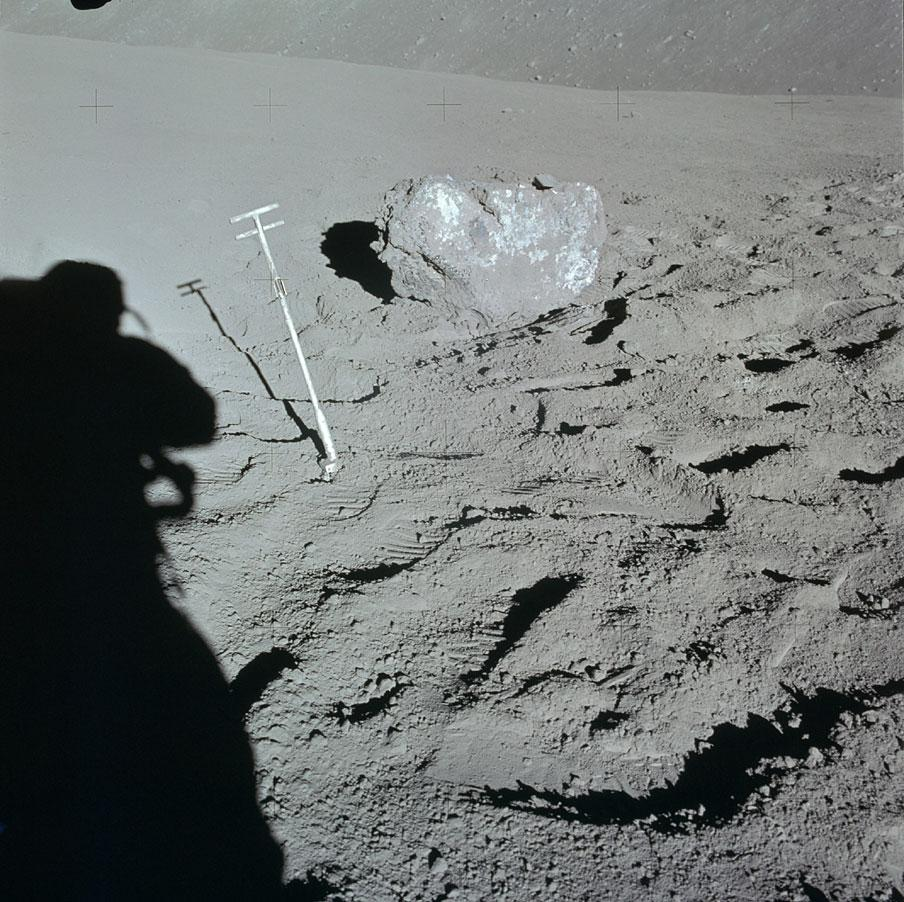rock: (380, 177, 606, 328)
